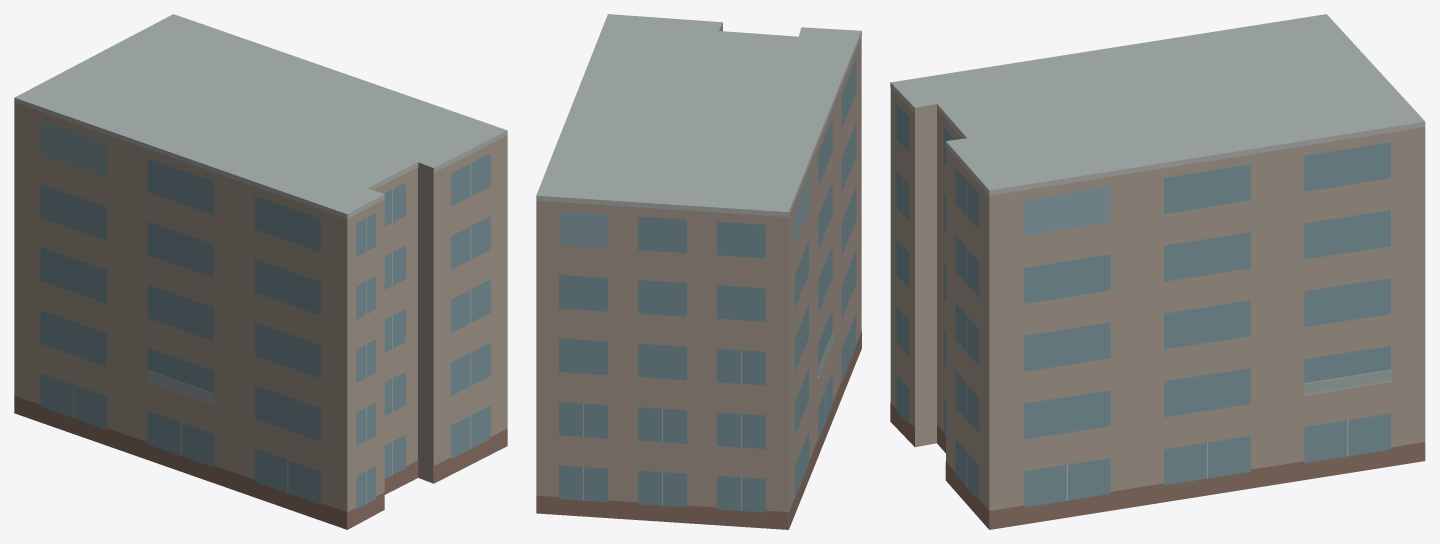
File: survey-upis-32947631.glb
3 renders of one model, left to right at view 1: azimuth 30°, elevation 25°; view 2: azimuth 150°, elevation 25°; view 3: azimuth 270°, elevation 25°, orthographic. The views are drawn at different scales.
Parts seen in each view (by area): view 1: survey-upis-32947631.tmp; view 2: survey-upis-32947631.tmp; view 3: survey-upis-32947631.tmp.
Part boxes in pixels (x1=…): survey-upis-32947631.tmp: x1=14, y1=14, x2=507, y2=529; survey-upis-32947631.tmp: x1=536, y1=14, x2=861, y2=529; survey-upis-32947631.tmp: x1=890, y1=14, x2=1425, y2=529.
Bounding box in the file's own units: 17.64 × 15.8 × 22.58.
